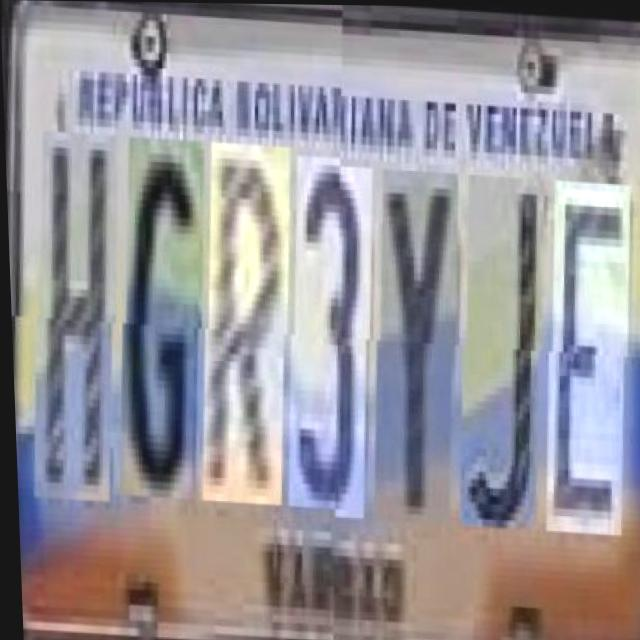3: (284, 159, 383, 514)
e: (542, 172, 640, 528)
g: (115, 142, 216, 504)
h: (29, 137, 130, 508)
j: (456, 168, 555, 524)
r: (197, 147, 302, 509)
y: (370, 163, 469, 518)
